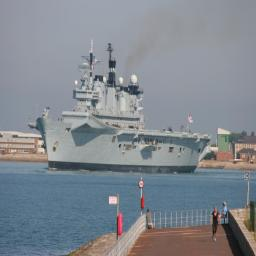Portanaves: (26, 37, 213, 177)
